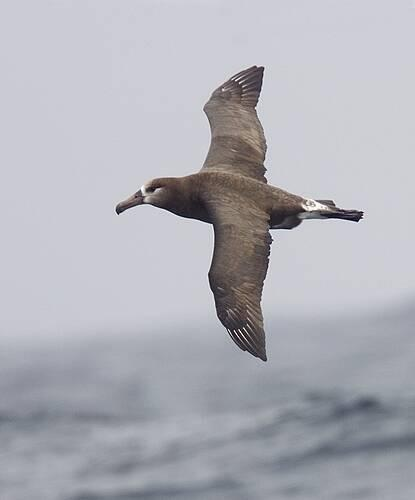bird: (112, 65, 365, 362)
